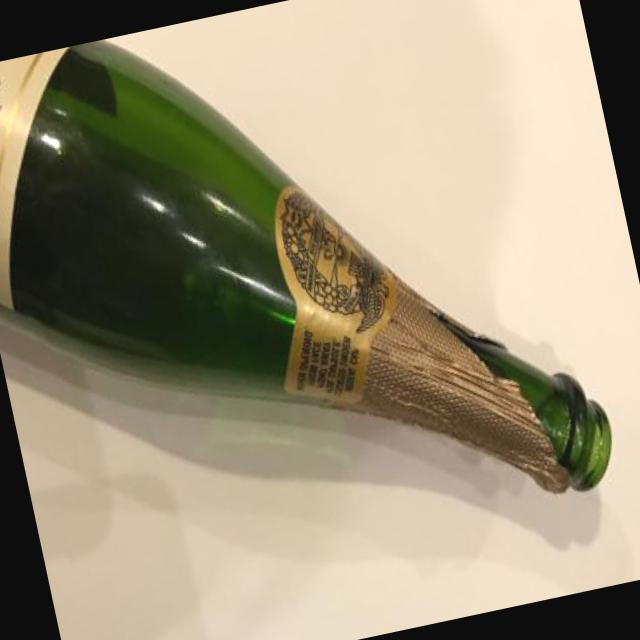chai_thuy_tinh: (0, 40, 612, 491)
